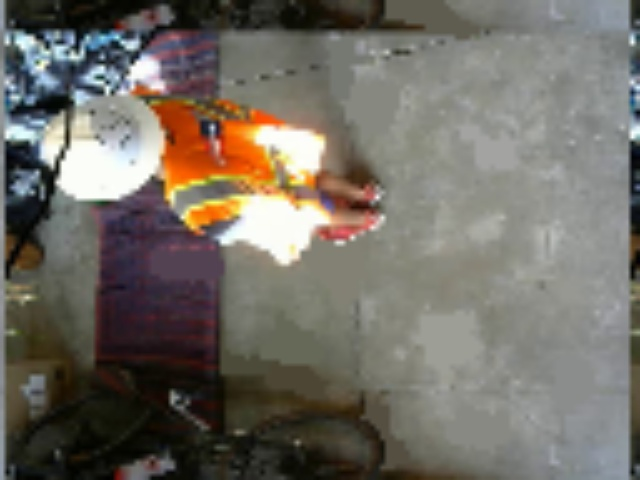two: (87, 108, 129, 145)
